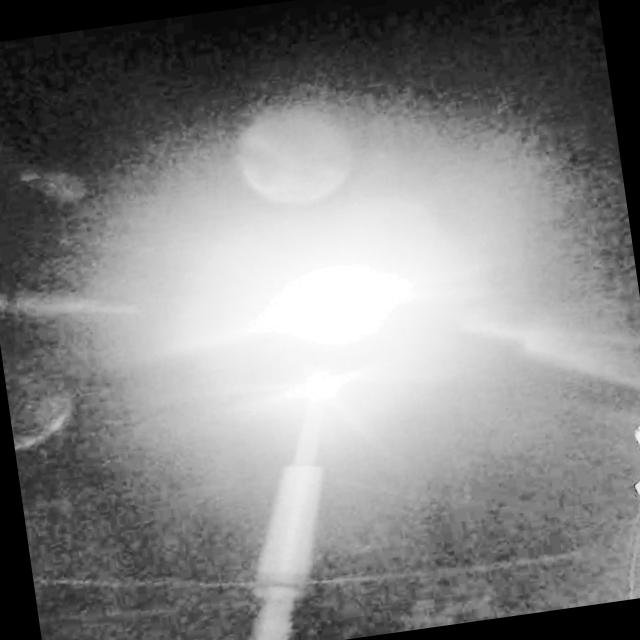Light: (276, 263, 391, 346), (291, 368, 352, 406)
